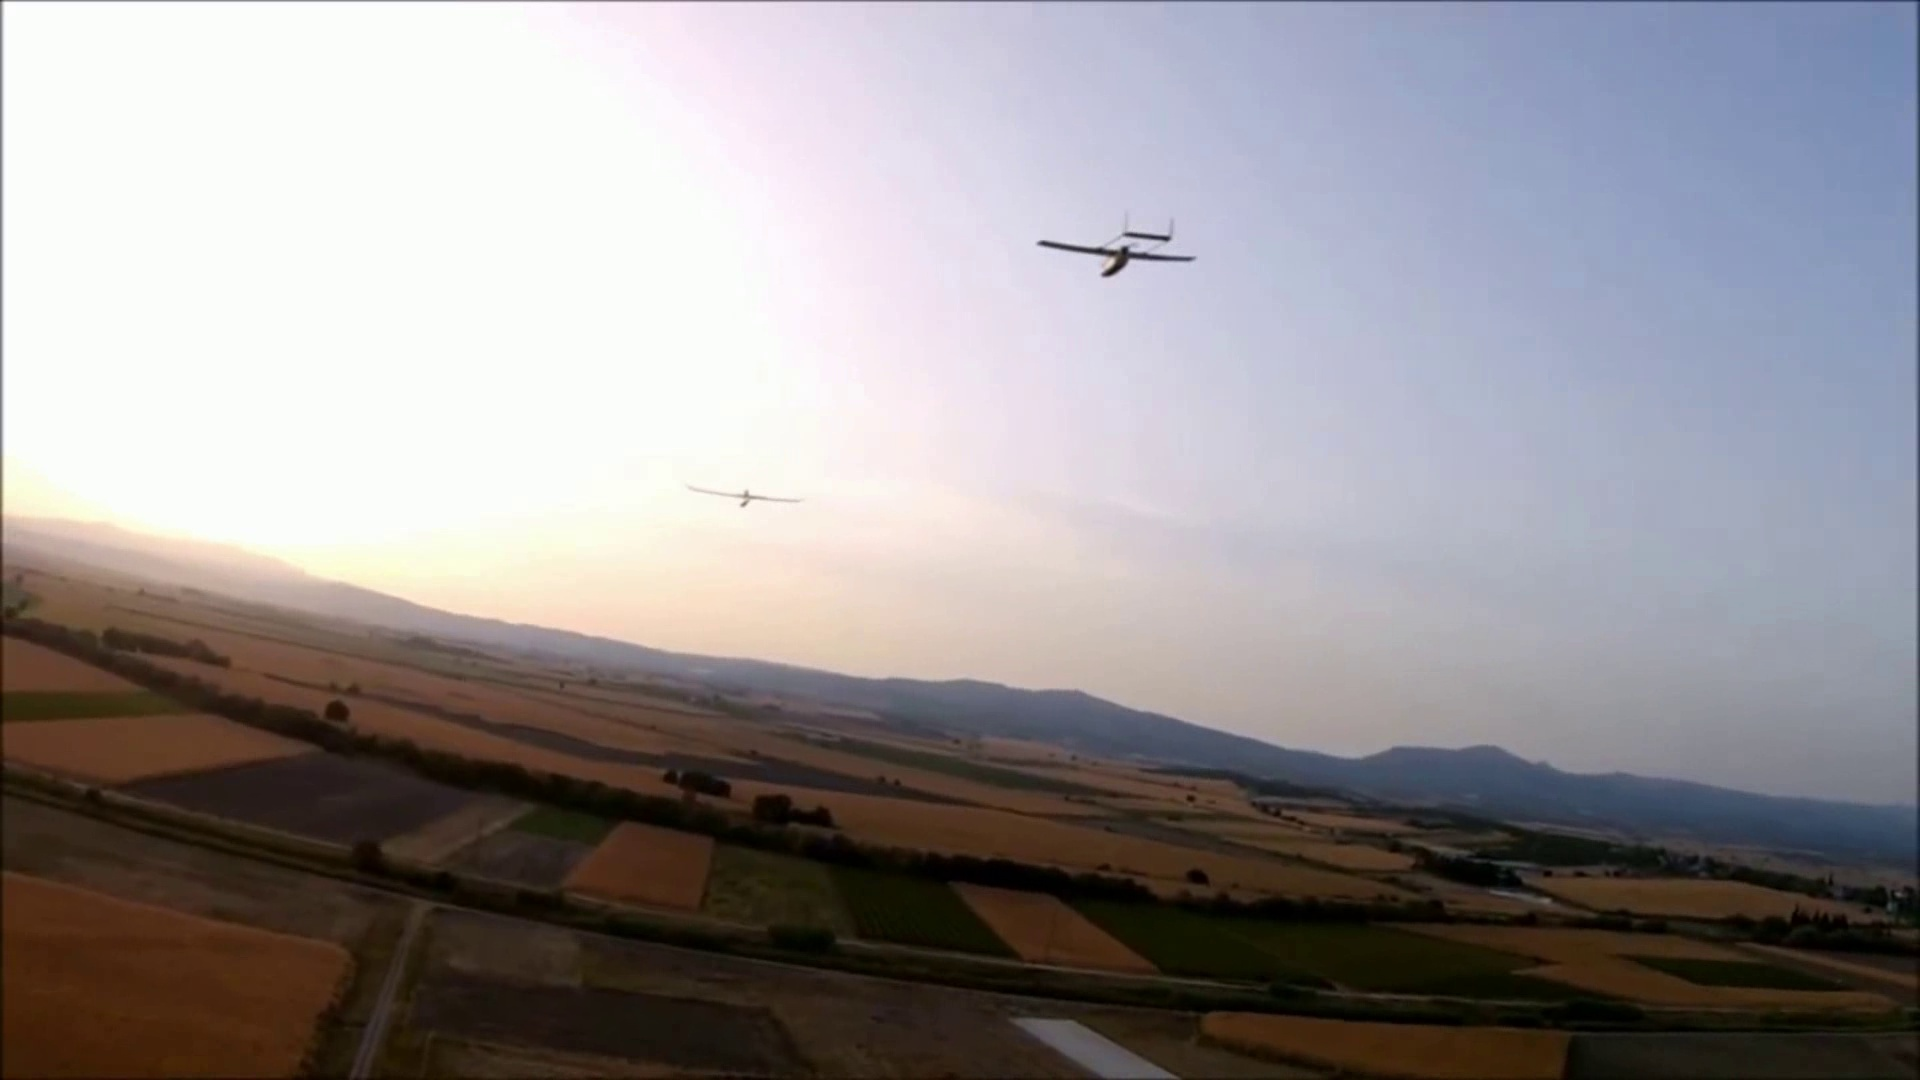airplane: (9, 452, 1867, 930), (1036, 207, 1197, 276), (680, 479, 808, 508)
